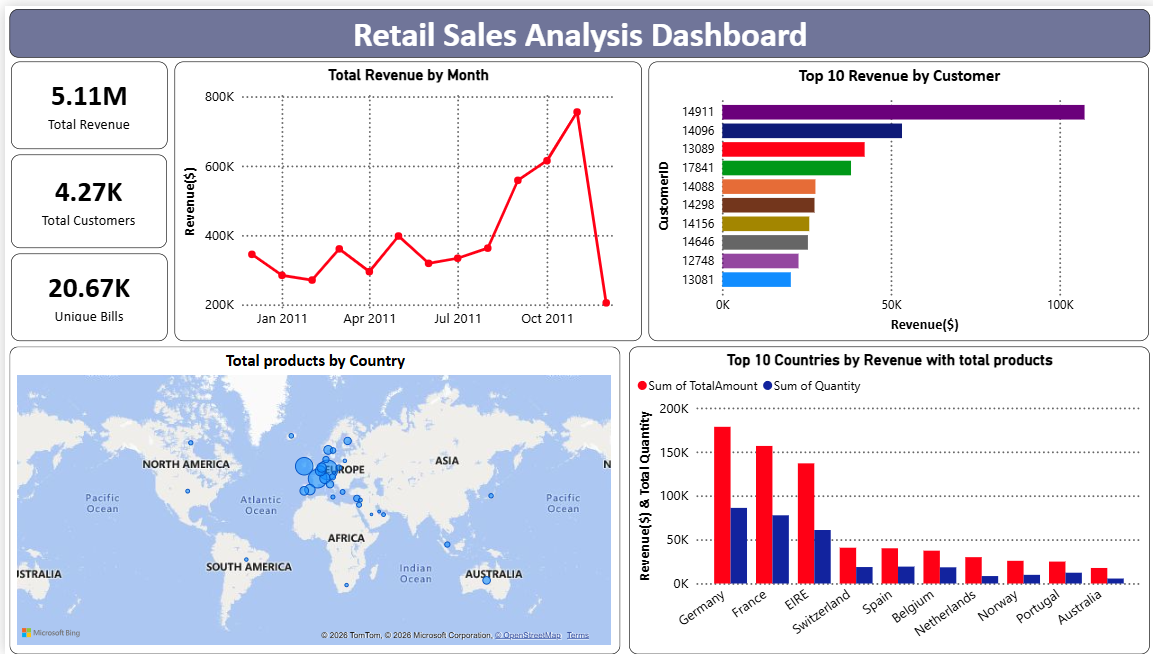

What the dashboard file says about the page in this screenshot:
{"tool":"powerbi","page":{"name":"Page 1","canvas":[1280,720],"ordinal":0},"visuals":[{"type":"lineChart","title":"Total Revenue by Month","fields":{"Y":["Sum(cleaned_data.TotalAmount)"],"Category":["cleaned_data.Year_Month"]},"box":[188,62,519,310.7],"z":0},{"type":"clusteredColumnChart","title":"Top 10 Countries by Revenue with total products","fields":{"Category":["cleaned_data.Country"],"Y":["Sum(cleaned_data.TotalAmount)","Sum(cleaned_data.Quantity)"]},"box":[693.3,378.3,578.3,341.7],"z":1000},{"type":"clusteredBarChart","title":"Top 10 Revenue by Customer","fields":{"Y":["Sum(cleaned_data.TotalAmount)"],"Category":["cleaned_data.CustomerID"]},"box":[715.7,62,556.3,310.7],"z":2000},{"type":"map","title":"Total products by Country","fields":{"Category":["cleaned_data.Country"],"Size":["Sum(cleaned_data.TotalAmount)"]},"box":[5,378.3,678.3,341.7],"z":3000},{"type":"textbox","title":"Retail Sales Analysis Dashboard","box":[4.9,3,1267.1,53.7],"z":4000},{"type":"cardVisual","fields":{"Data":["Sum(cleaned_data.TotalAmount)"]},"box":[6.5,62,174,97.6],"z":5000},{"type":"cardVisual","fields":{"Data":["Count(cleaned_data.InvoiceNo)"]},"box":[6.5,275.1,174,97.6],"z":6000},{"type":"cardVisual","fields":{"Data":["Count(cleaned_data.CustomerID)"]},"box":[6.7,165.8,173.3,104],"z":7000}]}

Visuals, with their boxes in screenshot pixels (x1, y1, x2, y2), scaled from the page's 1280x720 canvas onto the 1153x654 screenshot:
"Total Revenue by Month" lineChart: [169, 56, 637, 339]
"Top 10 Countries by Revenue with total products" clusteredColumnChart: [625, 344, 1145, 653]
"Top 10 Revenue by Customer" clusteredBarChart: [645, 56, 1146, 339]
"Total products by Country" map: [5, 344, 616, 653]
"Retail Sales Analysis Dashboard" textbox: [4, 3, 1146, 52]
cardVisual - Sum(cleaned_data.TotalAmount): [6, 56, 163, 145]
cardVisual - Count(cleaned_data.InvoiceNo): [6, 250, 163, 339]
cardVisual - Count(cleaned_data.CustomerID): [6, 151, 162, 245]
